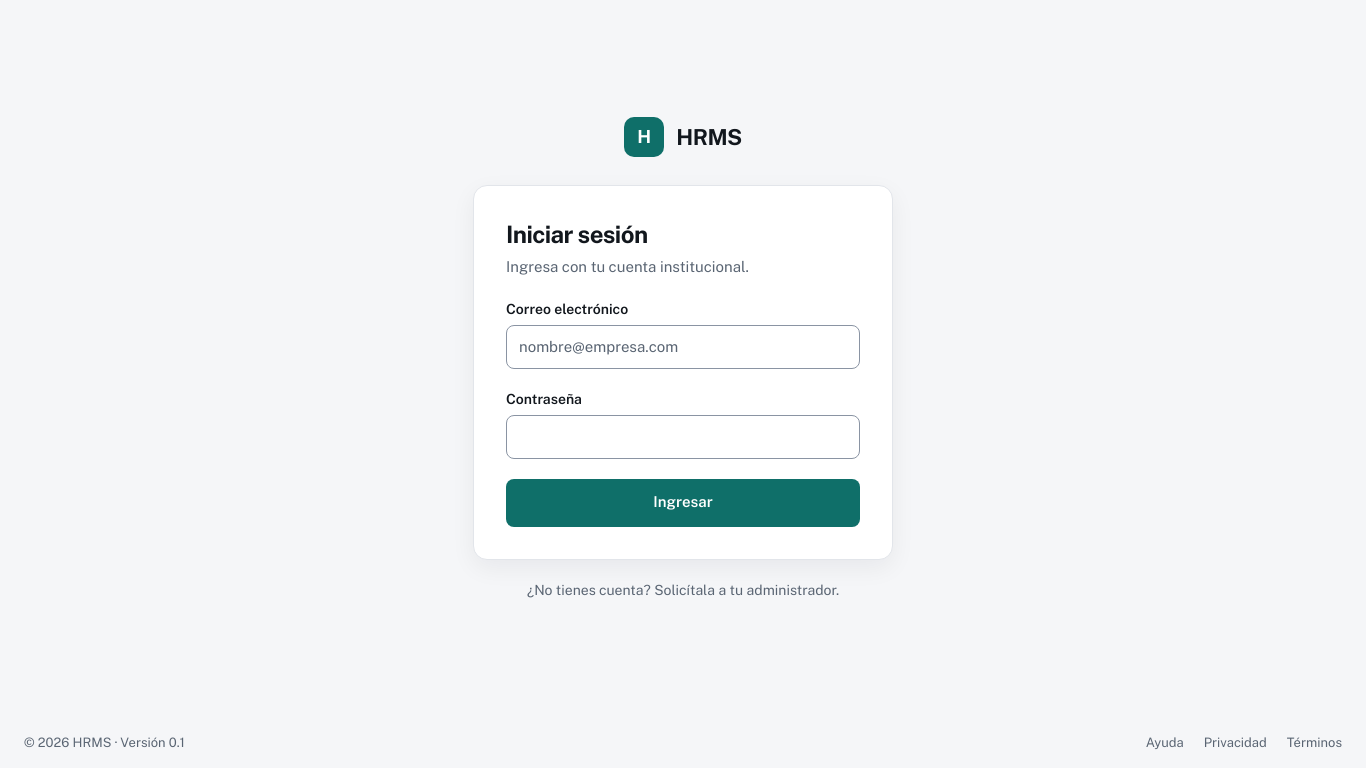
LoginPage › muestra una alerta general con 401 y conserva lo escrito
Type "admin@hrms.test" into the field labelled "Correo electrónico".
click(683, 346); type("admin@hrms.test")  # box x1=506 y1=324 x2=860 y2=368
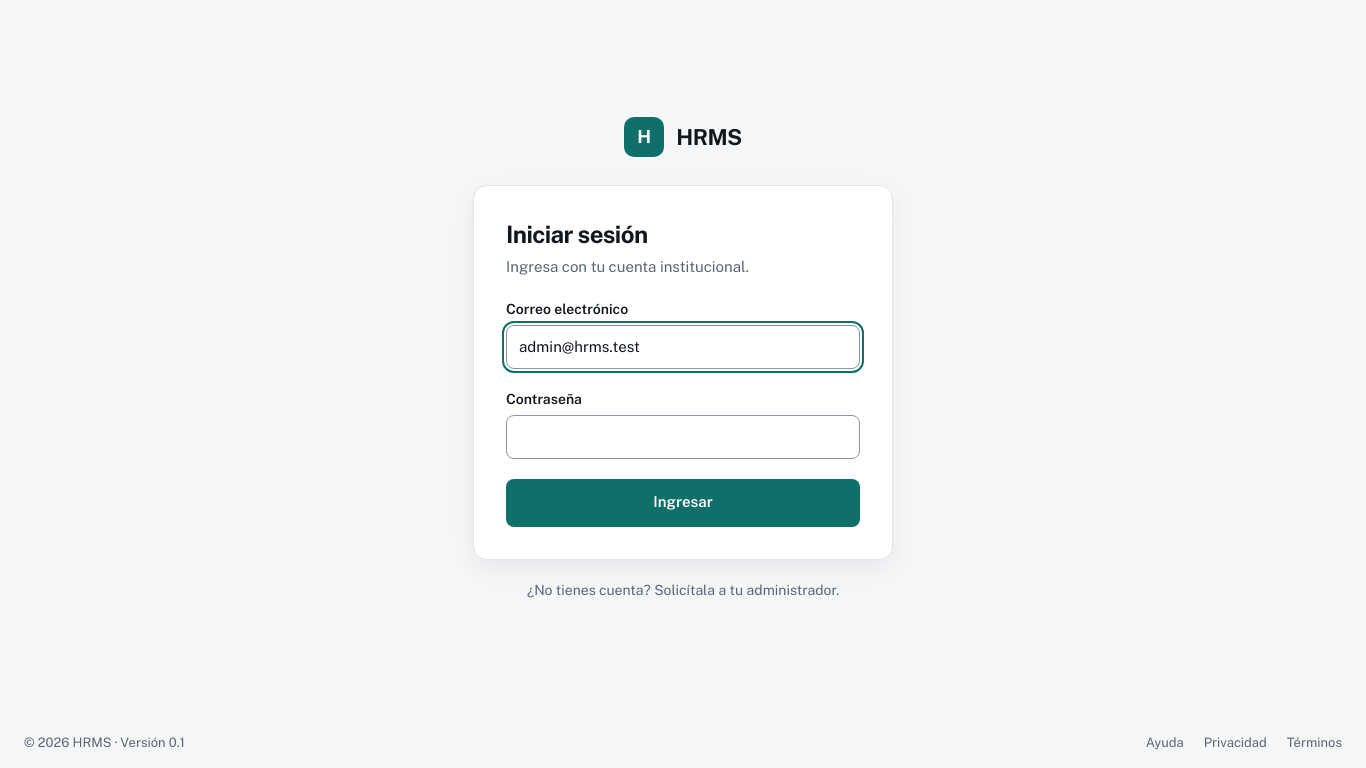
Type "password-de-prueba" into the password field labelled "Contraseña".
click(683, 436); type("password-de-prueba")  # box x1=506 y1=414 x2=860 y2=458
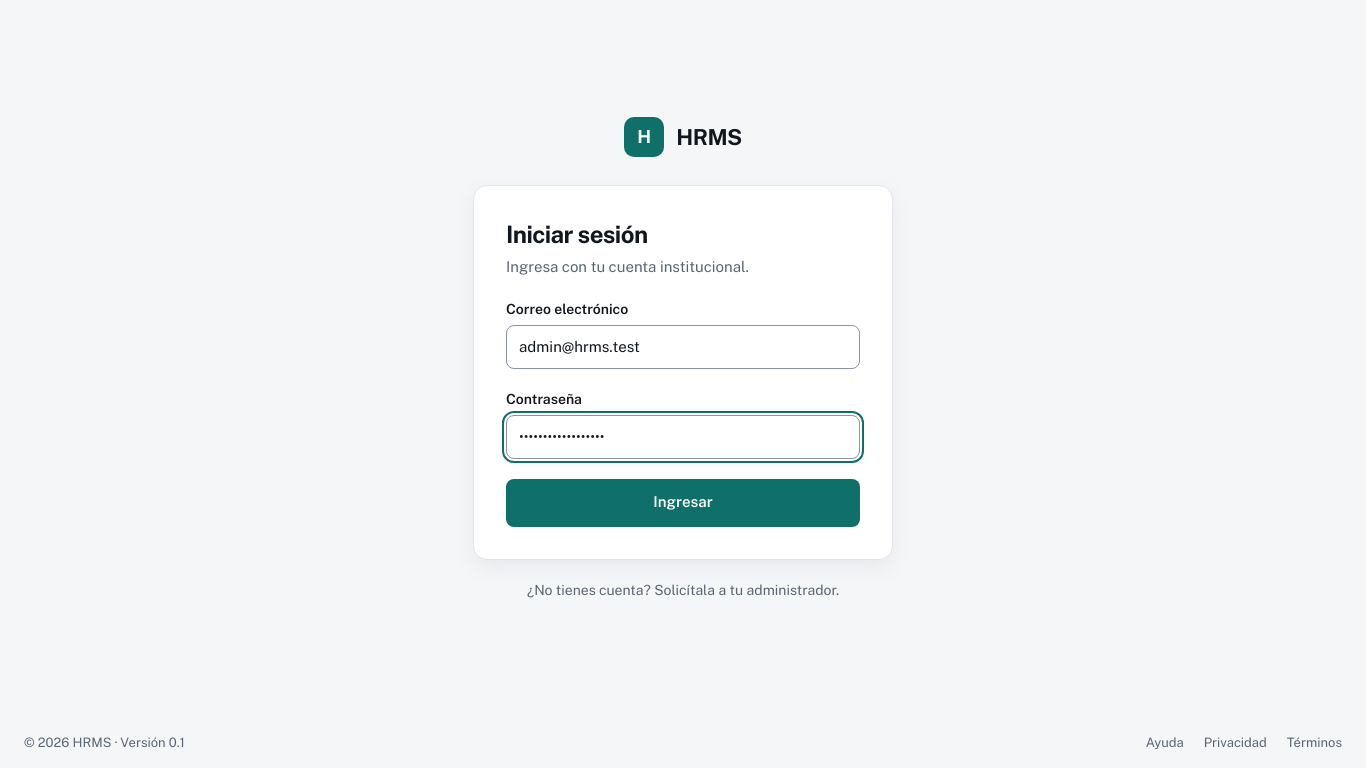
Click the button "Ingresar".
click(683, 502)  # box x1=506 y1=478 x2=860 y2=526
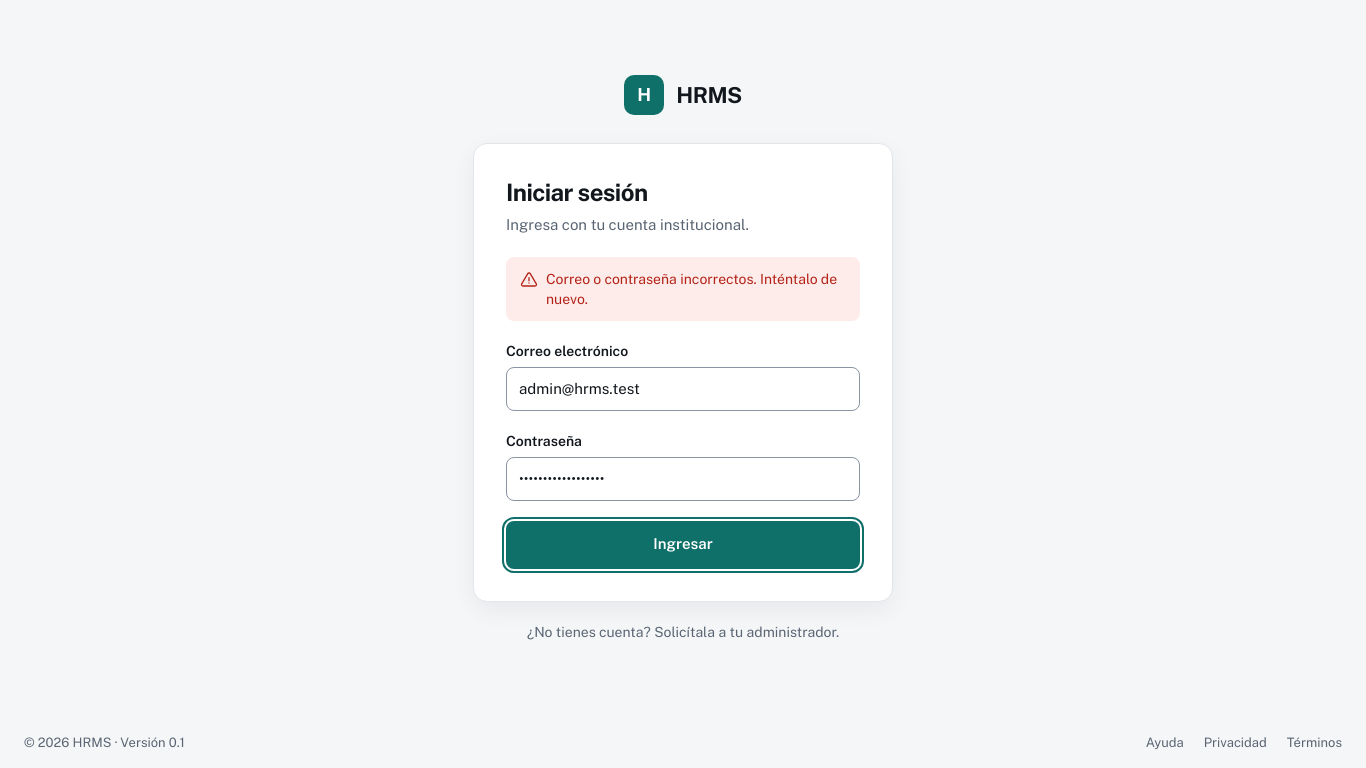
Check: the message reads "Correo o contraseña incorrectos. Inténtalo de nuevo.", box x1=546 y1=270 x2=837 y2=306
